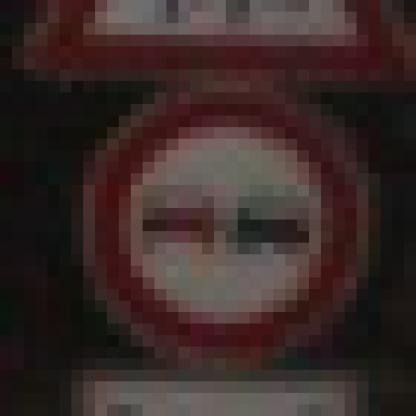No Overtaking: (61, 70, 358, 348)
